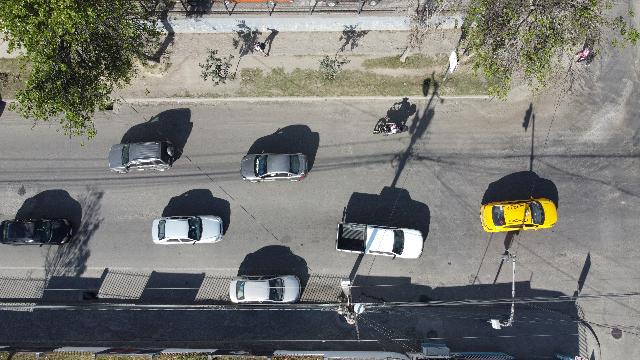Vehiculo: (336, 222, 424, 260), (480, 199, 558, 232), (109, 140, 175, 174), (229, 274, 301, 304), (152, 215, 224, 245), (240, 152, 308, 182), (0, 219, 72, 246)
